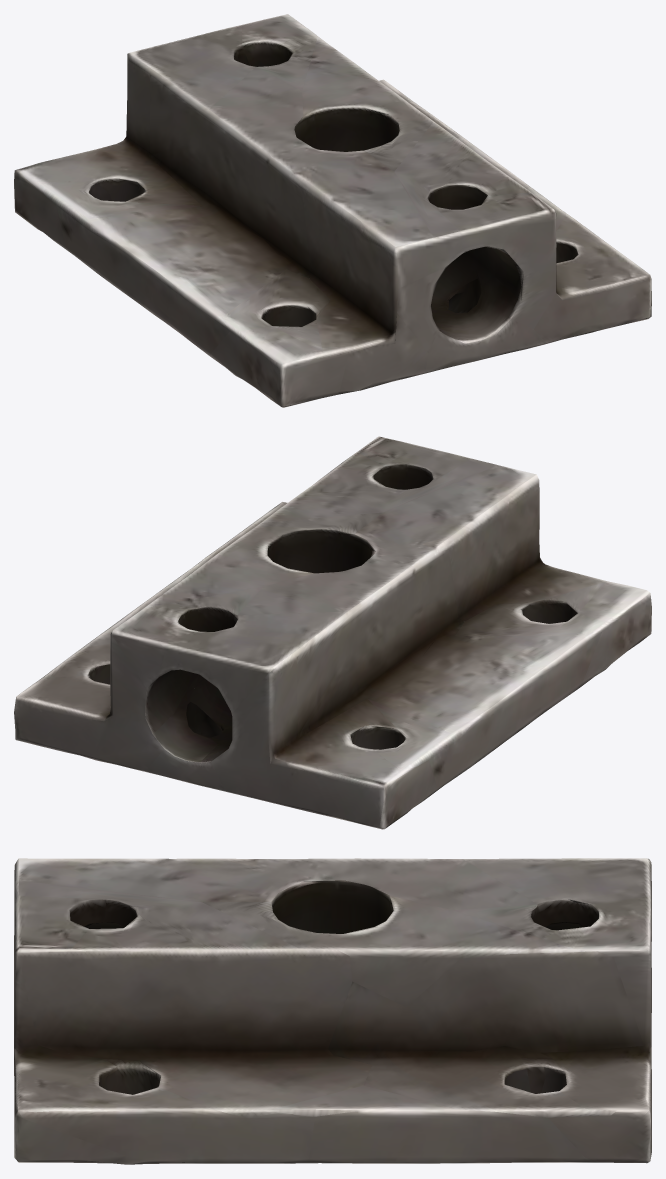
The model's file is m2RailJunction.glb.
The picture shows the model from 3 angles, top to bottom: view 1: azimuth 30°, elevation 25°; view 2: azimuth 150°, elevation 25°; view 3: azimuth 270°, elevation 25°; orthographic projection. The views are drawn at different scales.
Visible parts, largest first — view 1: model; view 2: model; view 3: model.
Boxes of the visible parts, bbox=[...] form: model: bbox=[14, 14, 651, 407]; model: bbox=[14, 436, 651, 829]; model: bbox=[14, 858, 651, 1164].
Bounding box in the file's own units: 1.52 × 0.5228 × 1.9.
1 material, 1 textured.
